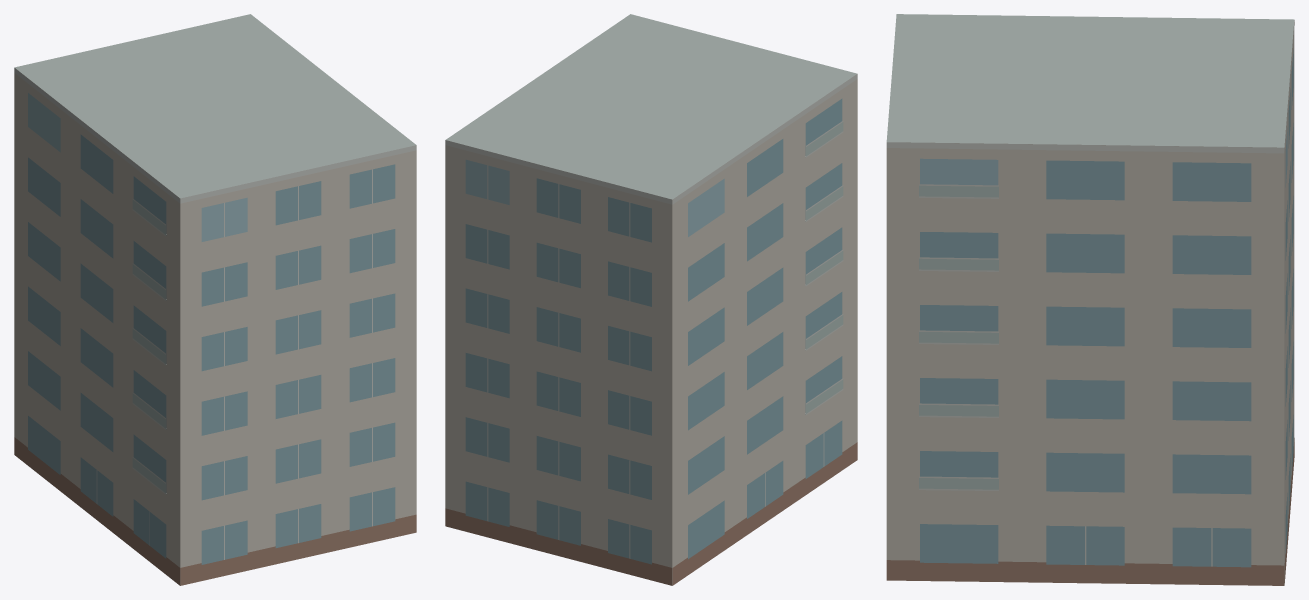
Rendered from survey-upis-32990308.glb.
The picture shows the model from 3 angles, left to right: view 1: azimuth 30°, elevation 25°; view 2: azimuth 150°, elevation 25°; view 3: azimuth 270°, elevation 25°; orthographic projection. The views are drawn at different scales.
Parts seen in each view (by area): view 1: survey-upis-32990308.tmp; view 2: survey-upis-32990308.tmp; view 3: survey-upis-32990308.tmp.
Part boxes in pixels (box(x1,y1,x2,y2)): survey-upis-32990308.tmp: box(14, 14, 416, 585); survey-upis-32990308.tmp: box(445, 14, 857, 585); survey-upis-32990308.tmp: box(886, 14, 1294, 585).
Bounding box in the file's own units: 11.97 × 18.3 × 15.44.
